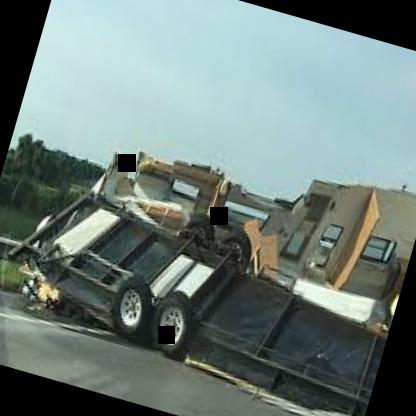accident: (7, 166, 407, 416)
